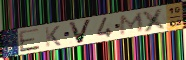4: (95, 16, 114, 39)
E: (18, 27, 41, 54)
K: (44, 25, 62, 48)
M: (120, 11, 145, 37)
V: (67, 18, 94, 45)
X: (140, 6, 170, 33)
